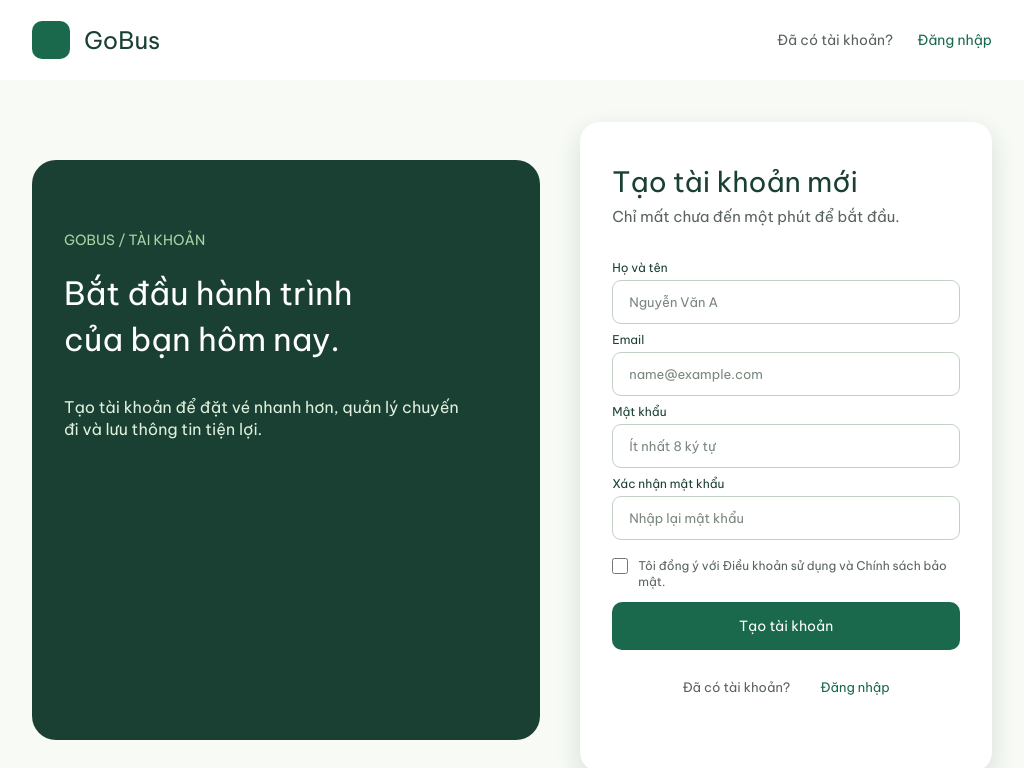
Test case: Registration form › AC-3 focuses an accessible validation error without submitting {"confirm":"Different2026!"}
Type "Nguyễn An" into the field labelled "Họ và tên" at [786, 302], box [612,280,960,324]
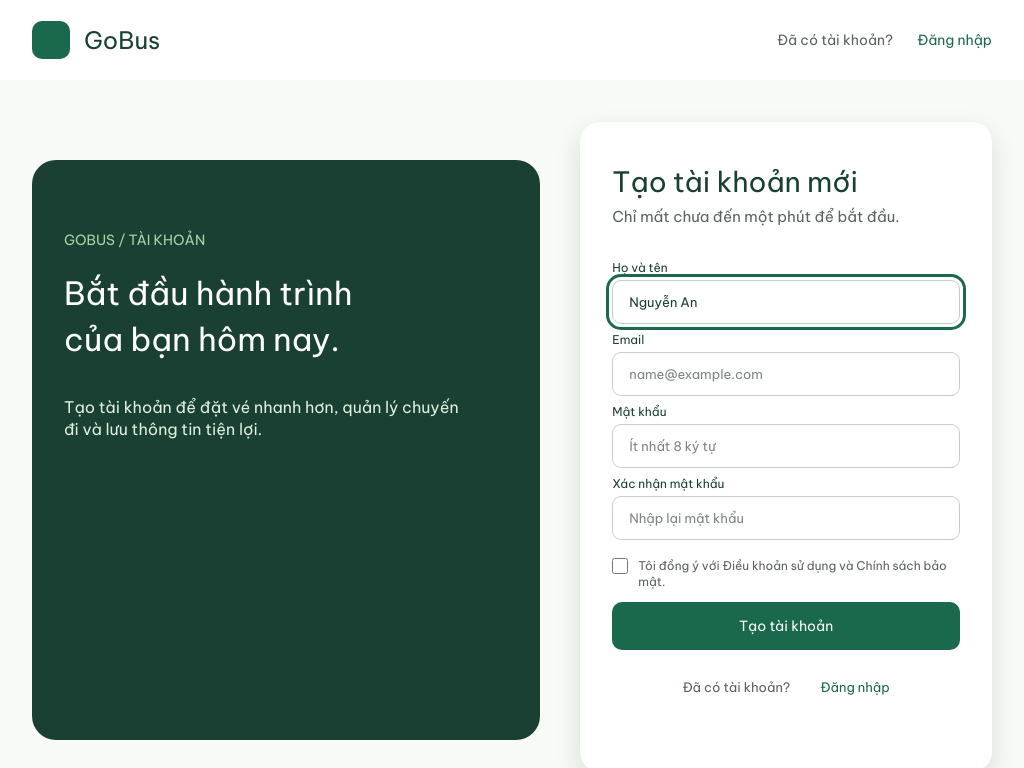
Type "AN@example.test" into the field labelled "Email" at [786, 374], box [612,352,960,396]
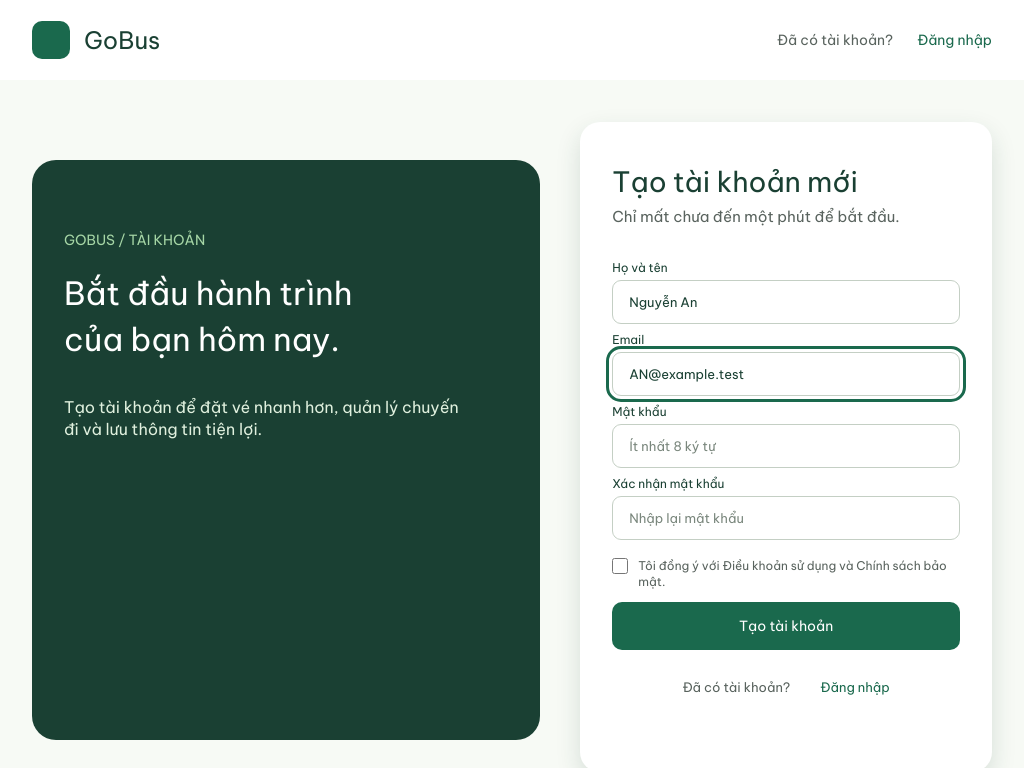
Type "DangKy2026! " into the password field labelled "Mật khẩu" at [786, 446], box [612,424,960,468]
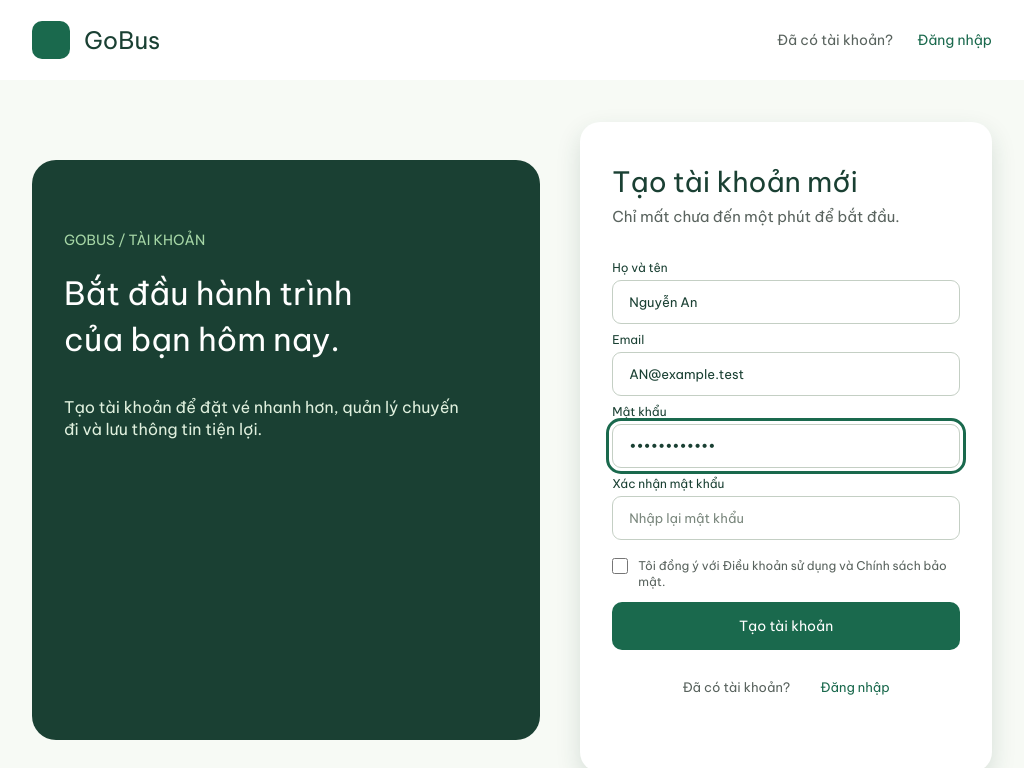
Type "Different2026!" into the password field labelled "Xác nhận mật khẩu" at [786, 518], box [612,496,960,540]
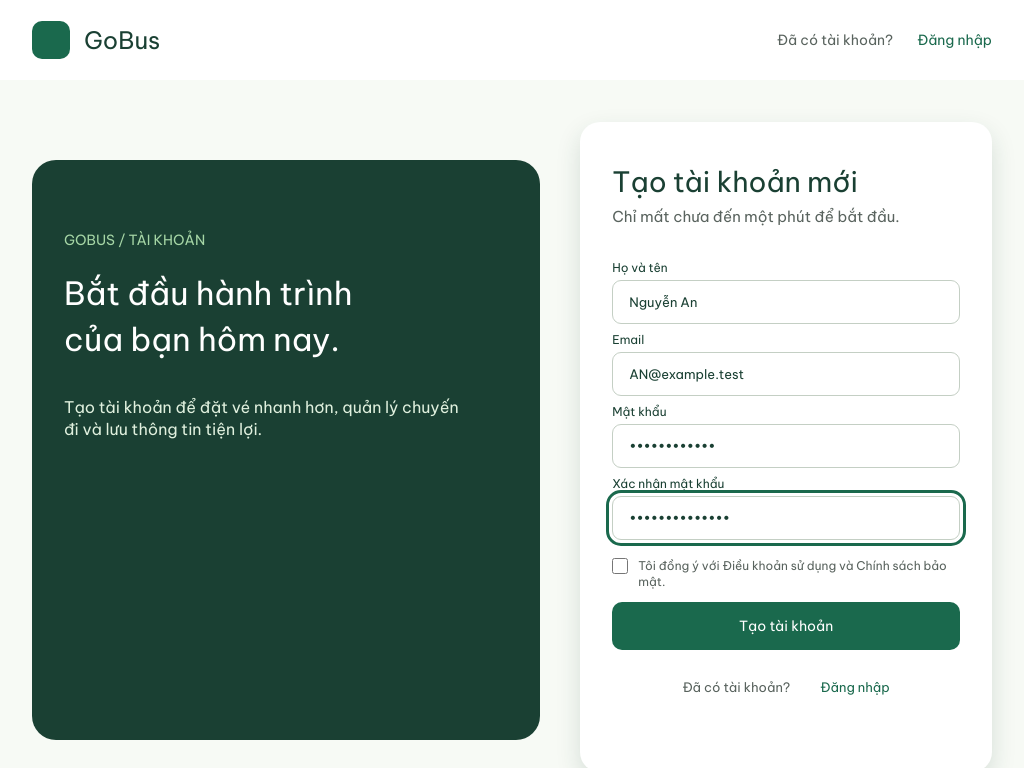
Click the checkbox at [620, 566], box [612,558,628,574]
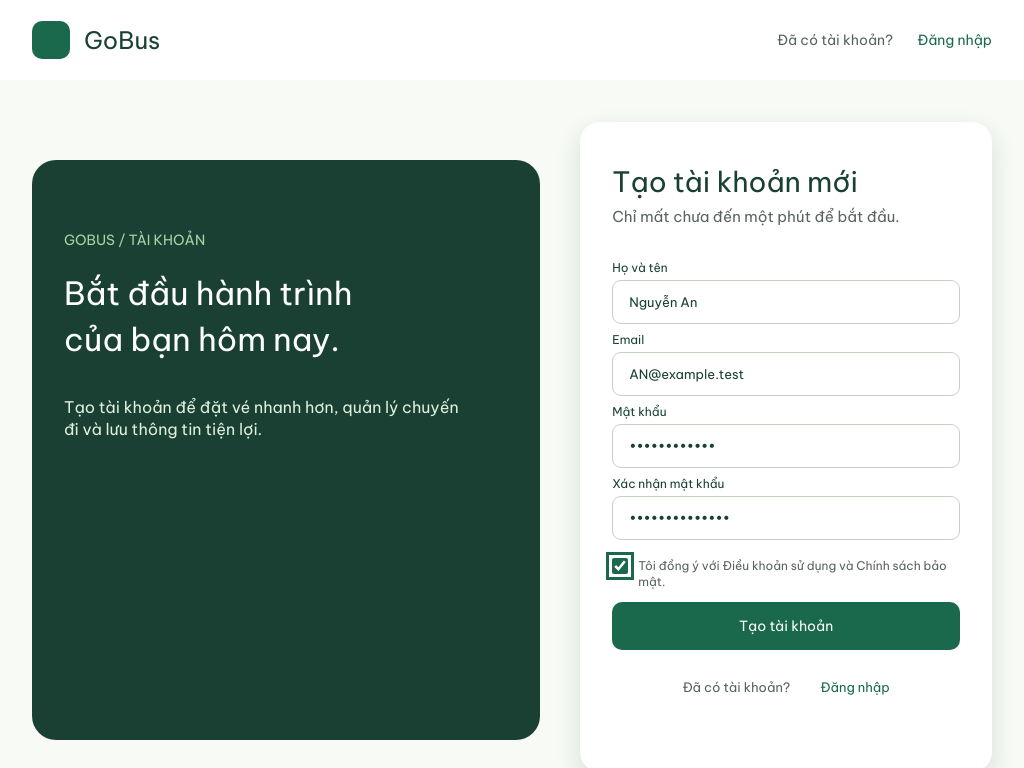
Click the button "Tạo tài khoản" at [786, 626], box [612,602,960,650]
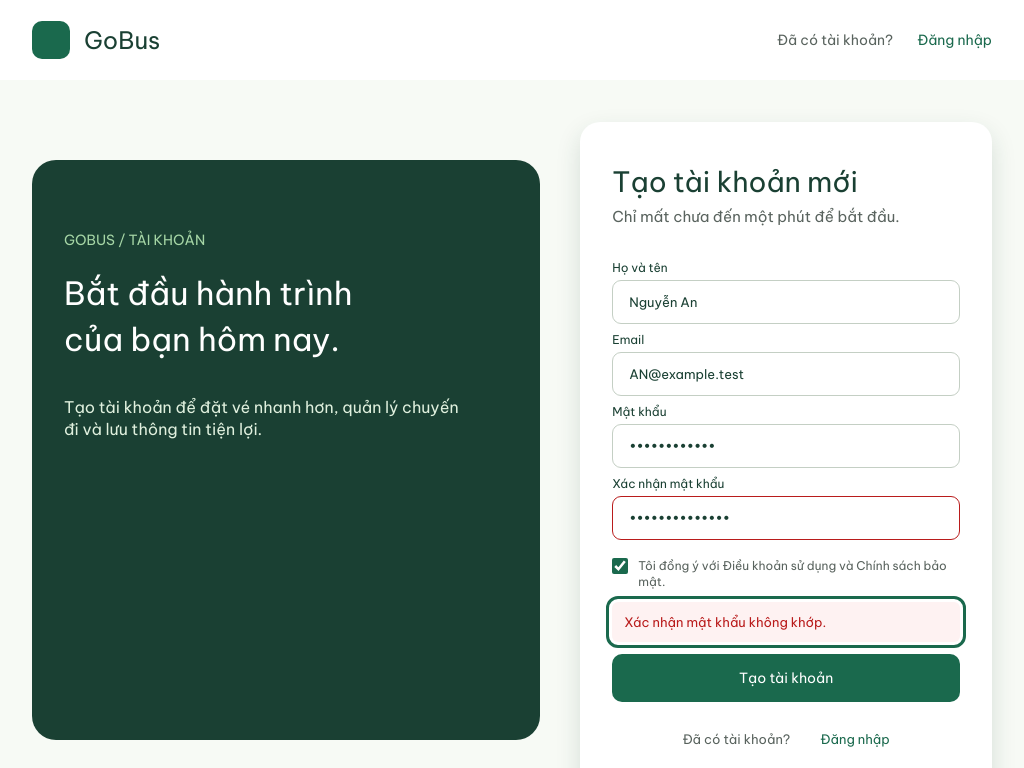
Expected: the message reads "Xác nhận mật khẩu không khớp.", [624,614,826,630]
